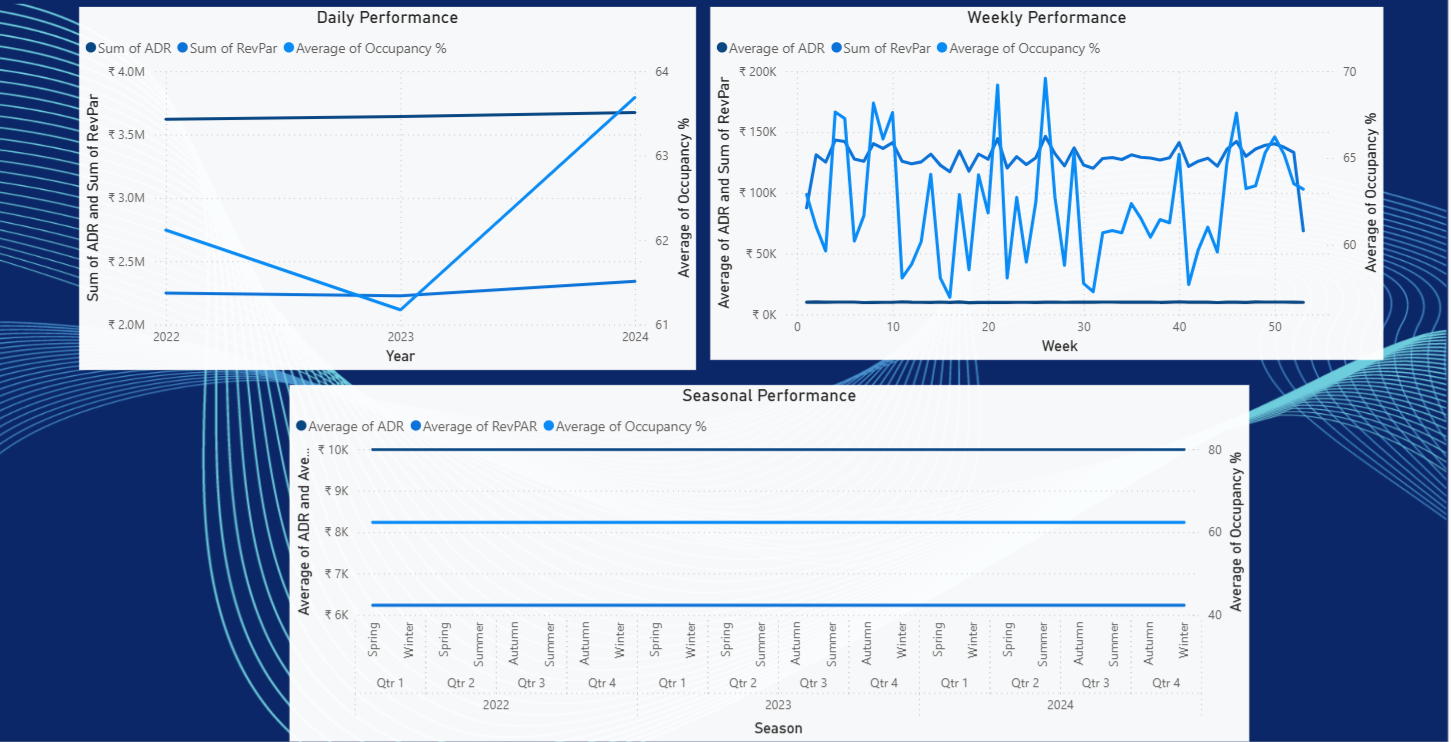

The page's visual inventory and layout, read from the dashboard file:
{"tool":"powerbi","page":{"name":"Page 3","canvas":[1280,720],"ordinal":2},"visuals":[{"type":"lineChart","title":"Daily Performance","fields":{"Category":["Tbl_Calculation.StayDate.Variation.Date Hierarchy.Year","Tbl_Calculation.StayDate.Variation.Date Hierarchy.Quarter","Tbl_Calculation.StayDate.Variation.Date Hierarchy.Month","Tbl_Calculation.StayDate.Variation.Date Hierarchy.Day"],"Y":["Sum(Tbl_Calculation.ADR)","Sum(Tbl_Calculation.RevPar)"],"Y2":["Avg(Tbl_Calculation.Occupancy %)"]},"box":[14.9,7.5,598.3,352],"z":0},{"type":"lineChart","title":"Seasonal Performance","fields":{"Y":["Avg(MasterData.ADR)","Avg(MasterData.RevPAR)"],"Y2":["Avg(MasterData.Occupancy %)"],"Category":["Tbl_Calculation.StayDate.Variation.Date Hierarchy.Year","Tbl_Calculation.StayDate.Variation.Date Hierarchy.Quarter","Tbl_Calculation.Season"]},"box":[218.9,374.4,930.5,345.8],"z":1000},{"type":"lineChart","title":"Weekly Performance","fields":{"Y":["Avg(Tbl_Calculation.ADR)","Sum(Tbl_Calculation.RevPar)"],"Category":["Tbl_Calculation.Week"],"Y2":["Avg(Tbl_Calculation.Occupancy %)"]},"box":[627,7.5,653.1,342.1],"z":2000}]}

Visuals, with their boxes on the page's 1280x720 design canvas (x1, y1, x2, y2). These are canvas units, not pixel positions in the 1451x742 screenshot, which may show the page scaled, cropped or inside an application window:
"Daily Performance" lineChart: locate(15, 8, 613, 360)
"Seasonal Performance" lineChart: locate(219, 374, 1149, 720)
"Weekly Performance" lineChart: locate(627, 8, 1280, 350)
